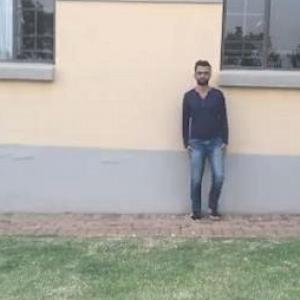follow: (183, 58, 232, 221)
